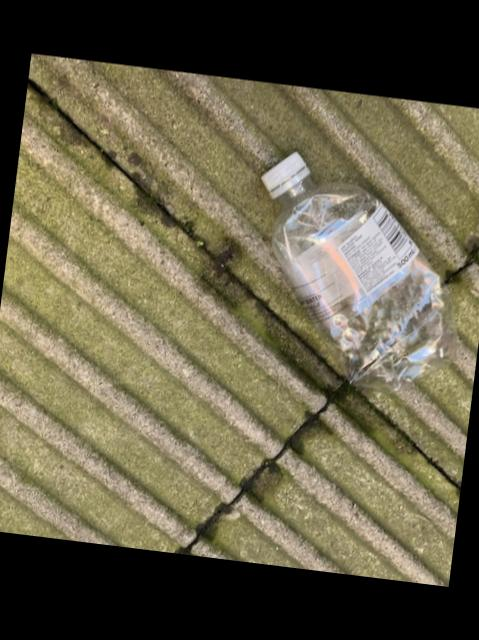plastic: (262, 152, 457, 390)
